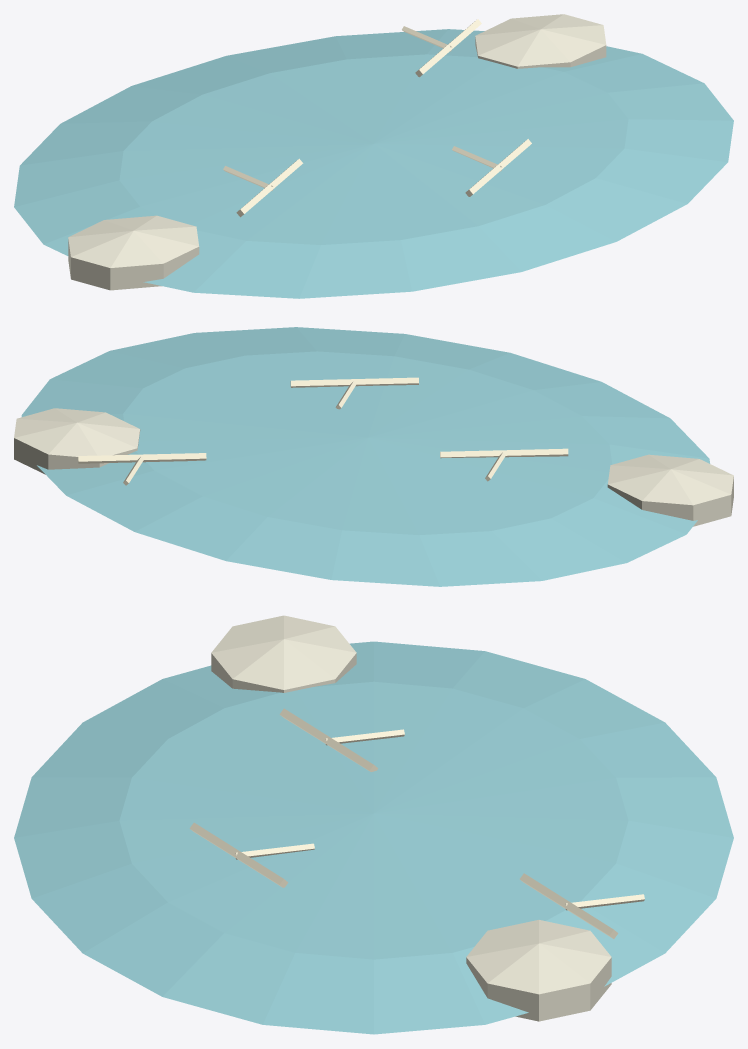
Rendered from ice-patch.glb.
3 views of the same model, one above another, from view 1: azimuth 30°, elevation 25°; view 2: azimuth 150°, elevation 25°; view 3: azimuth 270°, elevation 25° (orthographic). The views are drawn at different scales.
Visible parts, largest first — view 1: matte-ice; view 2: matte-ice; view 3: matte-ice.
Part boxes in pixels (<box>): matte-ice: <box>14,14,733,298</box>; matte-ice: <box>14,327,733,586</box>; matte-ice: <box>14,615,733,1034</box>.
Bounding box in the file's own units: 3.14 × 0.215 × 2.4.
